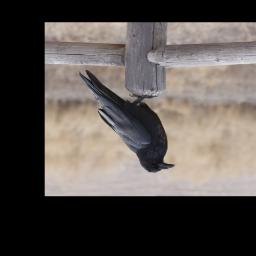Crow: (77, 68, 176, 174)
